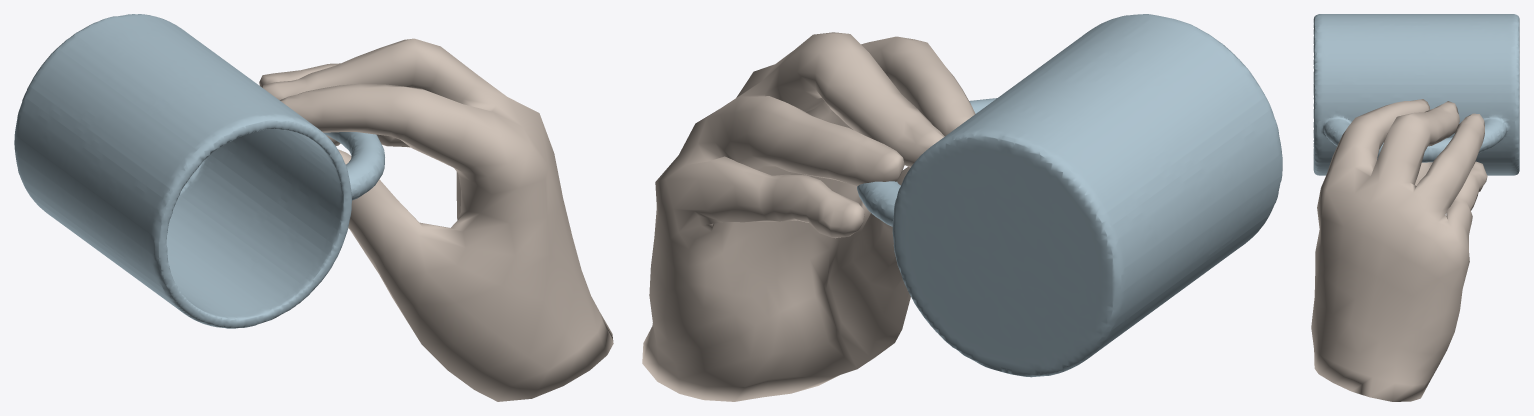
3 renders of one model, left to right at view 1: azimuth 30°, elevation 25°; view 2: azimuth 150°, elevation 25°; view 3: azimuth 270°, elevation 25°, orthographic. The views are drawn at different scales.
Size of the model in its own units: 0.2081 by 0.1452 by 0.1061.
